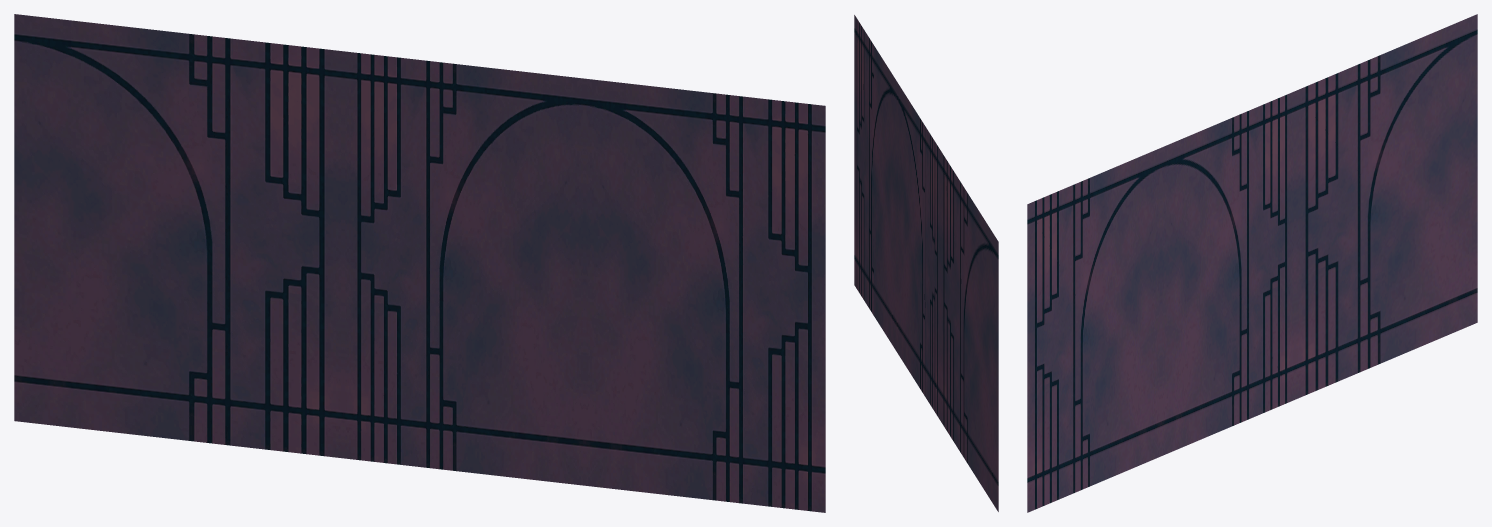
Rendered from glass3.glb.
3 renders of one model, left to right at view 1: azimuth 30°, elevation 25°; view 2: azimuth 150°, elevation 25°; view 3: azimuth 270°, elevation 25°, orthographic. The views are drawn at different scales.
Parts seen in each view (by area): view 1: ModelObject; view 2: ModelObject; view 3: ModelObject.
Boxes of the visible parts, <box> form: ModelObject: <box>14,14,825,512</box>; ModelObject: <box>854,15,998,511</box>; ModelObject: <box>1027,14,1477,512</box>.
Size of the model in its own units: 0.7933 by 0.5999 by 0.7933.
1 material, 1 textured.
